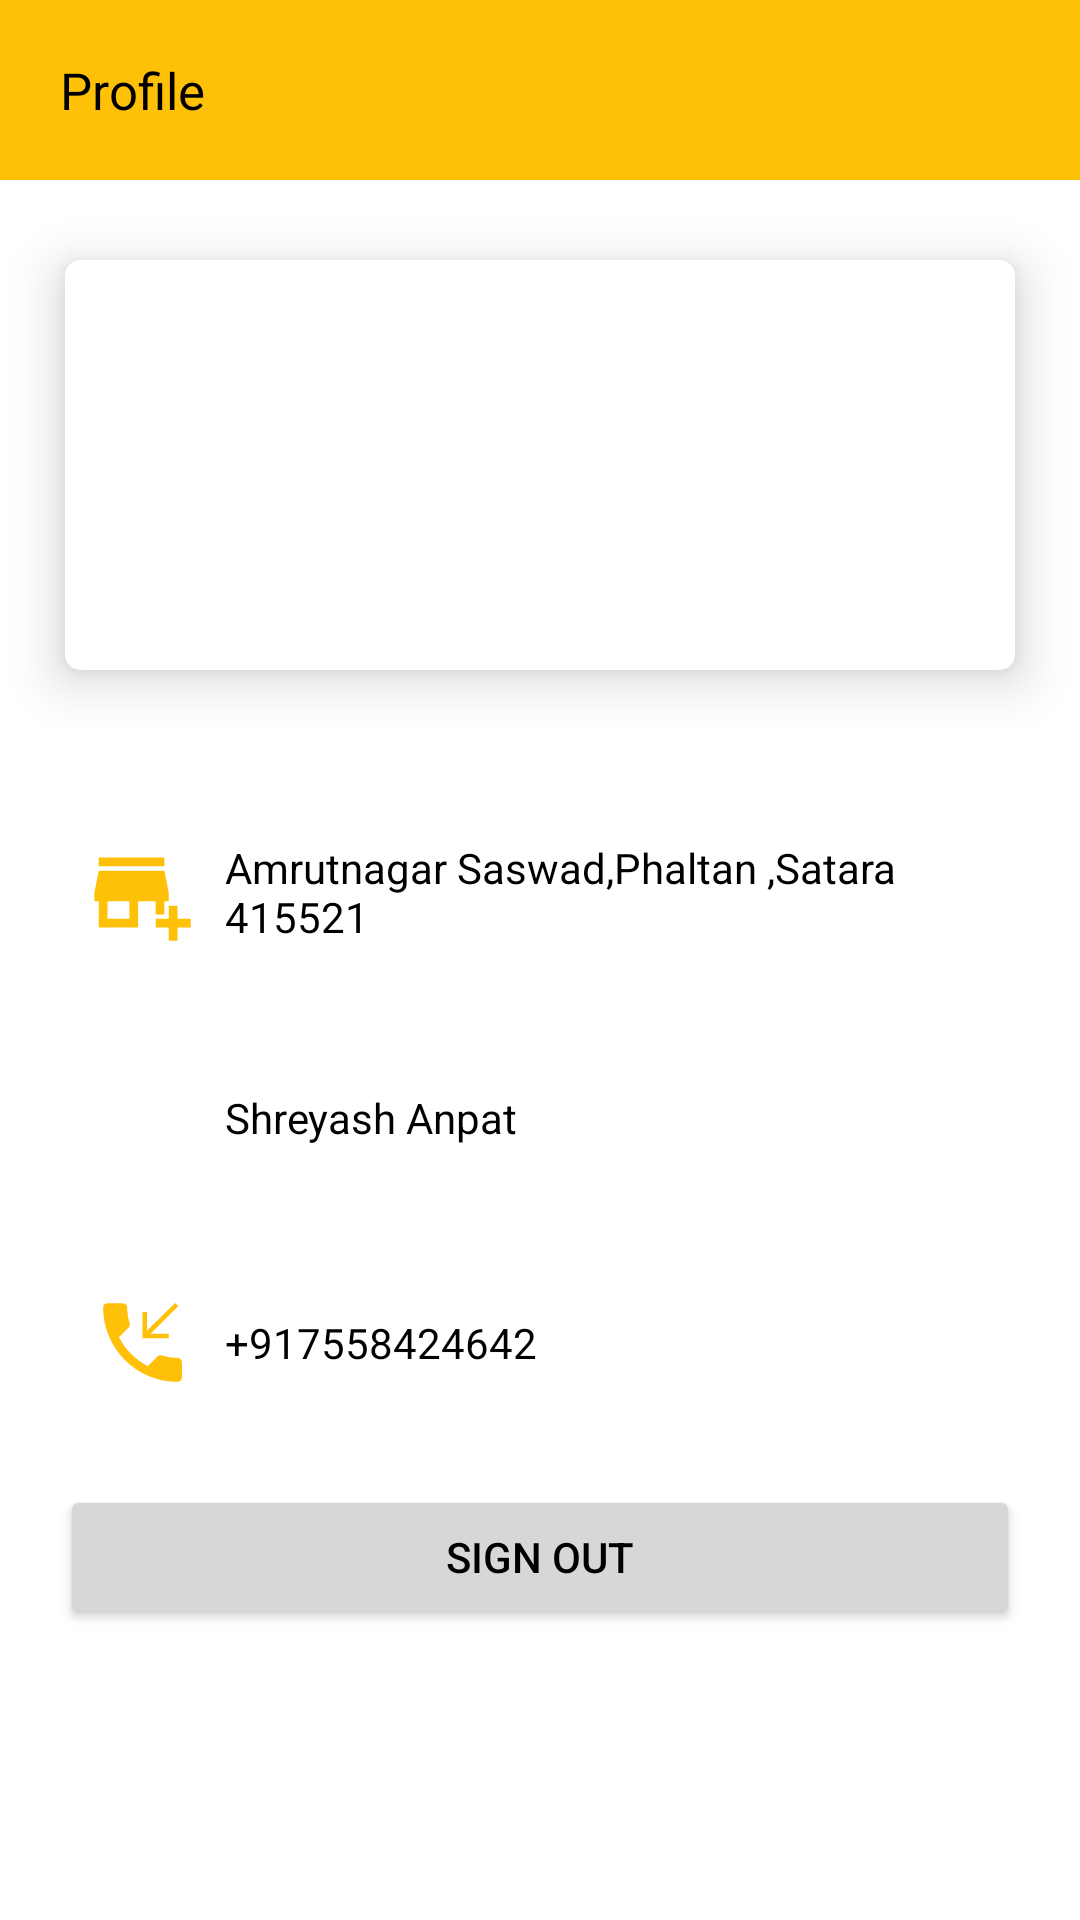

Icons on this 1080w x 1920h Android screen, each with the point to tap as (x,y):
add business: (142,899)
phone callback: (142,1342)
